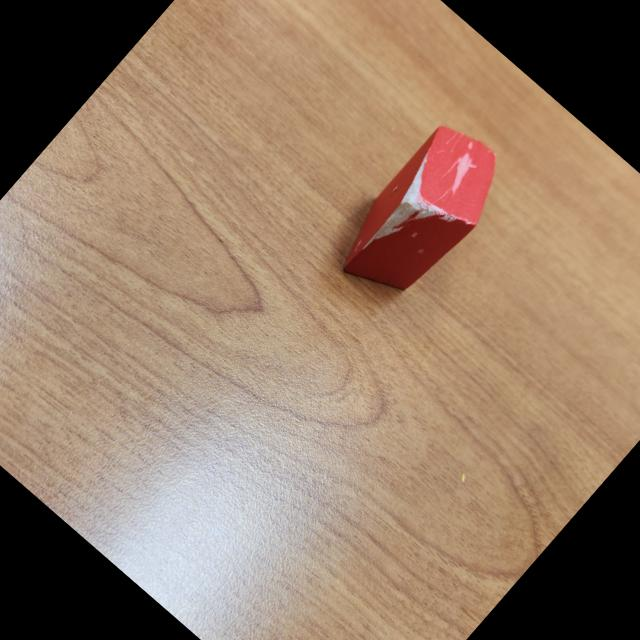broken: (325, 111, 522, 318)
